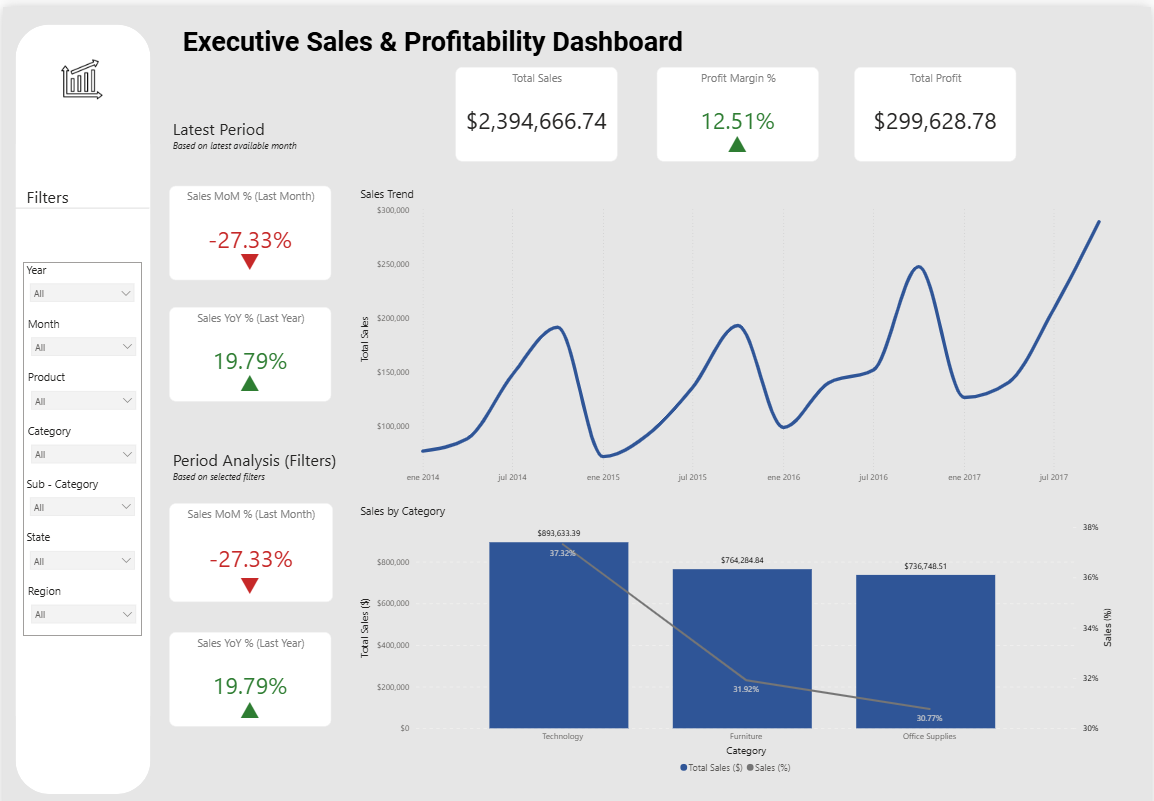

This screenshot's page, from the dashboard's own definition file:
{"tool":"powerbi","page":{"name":"Executive Overview","canvas":[1700,1200],"ordinal":0},"visuals":[{"type":"card","title":"Total Sales","fields":{"Values":["Medidas_DAX.Total Sales"]},"box":[670,88,240,140],"z":0},{"type":"textbox","box":[28.2,260,123.3,48.9],"z":0,"group":"g1"},{"type":"lineChart","title":"Sales Trend","fields":{"Y":["Medidas_DAX.Total Sales"],"Category":["dim_date.date.Variación.Jerarquía de fechas.Año","dim_date.date.Variación.Jerarquía de fechas.Trimestre"]},"box":[524,264,1126,450],"z":1000},{"type":"shape","box":[16,270,200,58.9],"z":1000,"group":"g1"},{"type":"lineStackedColumnComboChart","title":"Sales by Category","fields":{"Category":["dim_product.category"],"Y":["Medidas_DAX.Total Sales"],"Y2":["Medidas_DAX.%Sales"]},"box":[524,736,1126,410],"z":2000},{"type":"card","title":"Total Profit","fields":{"Values":["Medidas_DAX.Total Profit"]},"box":[1262,88,240,140],"z":3000},{"type":"textbox","box":[262,22,946,80],"z":4000},{"type":"card","title":"Profit Margin %","fields":{"Values":["Medidas_DAX.Profit Margin %"]},"box":[968,88,240,140],"z":4000,"group":"g3"},{"type":"shape","box":[18,26,200,1140],"z":5000},{"type":"group","id":"g1","title":"Group 1","box":[16,260,200,70],"z":6000},{"type":"slicer","title":"Category","fields":{"Values":["dim_product.category"]},"box":[30,615.3,175.6,80],"z":6000,"group":"g2"},{"type":"group","id":"g2","title":"Group 2","box":[28.9,377,176.7,555],"z":7000},{"type":"slicer","title":"Month","fields":{"Values":["dim_date.date.Variación.Jerarquía de fechas.Mes"]},"box":[30,456.4,175.6,80],"z":7000,"group":"g2"},{"type":"slicer","title":"State","fields":{"Values":["dim_region.state"]},"box":[28.9,773.1,175.6,80],"z":8000,"group":"g2"},{"type":"card","title":"Sales YoY % (Last Year)","fields":{"Values":["Medidas_DAX.Sales YoY % (KPI)"]},"box":[246,926,240,140],"z":8000},{"type":"card","title":"Sales MoM % (Last Month)","fields":{"Values":["Medidas_DAX.Sales MoM % (KPI)"]},"box":[246,736,242,146],"z":9000},{"type":"slicer","title":"Region","fields":{"Values":["dim_region.region"]},"box":[30,852,175.6,80],"z":9000,"group":"g2"},{"type":"card","title":"Sales YoY % (Last Year)","fields":{"Values":["Medidas_DAX.YoY % KPI Global"]},"box":[246,444,240,140],"z":10000},{"type":"slicer","title":"Sub - Category","fields":{"Values":["dim_product.sub_category"]},"box":[28.9,694.2,175.6,80],"z":10000,"group":"g2"},{"type":"card","title":"Sales MoM % (Last Month)","fields":{"Values":["Medidas_DAX.MoM % Global"]},"box":[246,264,240,140],"z":11000},{"type":"slicer","title":"Product","fields":{"Values":["dim_product.product_name"]},"box":[30,535.3,175.6,80],"z":11000,"group":"g2"},{"type":"textbox","box":[246,160,222,70],"z":12000},{"type":"slicer","title":"Year","fields":{"Values":["dim_date.year"]},"box":[29,377,175,80],"z":12000,"group":"g2"},{"type":"textbox","box":[246,650,278,64],"z":13000},{"type":"card","title":"Sales MoM % (Last Month)","fields":{"Values":["Formats.Sales MoM Indicator"]},"box":[326,826,80,60],"z":14000},{"type":"card","title":"Sales MoM % (Last Month)","fields":{"Values":["Formats.Profit_Card Indicator"]},"box":[1048,172,80,58],"z":14005,"group":"g3"},{"type":"card","title":"Sales MoM % (Last Month)","fields":{"Values":["Formats.Sales YoY Indicator"]},"box":[326,1012,80,58],"z":15000},{"type":"card","title":"Sales MoM % (Last Month)","fields":{"Values":["Formats.Sales MoMGlobal Indicator"]},"box":[326,526,80,60],"z":16000},{"type":"card","title":"Sales MoM % (Last Month)","fields":{"Values":["Formats.Sales YoYGlobal Indicator"]},"box":[326,348,80,58],"z":17000},{"type":"group","id":"g3","title":"Group 3","box":[968,88,240,142],"z":18000},{"type":"image","box":[64,62,104,92],"z":19000}]}

Visuals, with their boxes in screenshot pixels (x1, y1, x2, y2), scaled from the page's 1700x1200 canvas onto the 1154x801 screenshot:
"Total Sales" card: 455 59 618 152
textbox: 19 174 103 206
"Sales Trend" lineChart: 356 176 1120 477
shape: 11 180 147 220
"Sales by Category" lineStackedColumnComboChart: 356 491 1120 765
"Total Profit" card: 857 59 1020 152
textbox: 178 15 820 68
"Profit Margin %" card: 657 59 820 152
shape: 12 17 148 778
"Group 1" group: 11 174 147 220
"Category" slicer: 20 411 140 464
"Group 2" group: 20 252 140 622
"Month" slicer: 20 305 140 358
"State" slicer: 20 516 139 569
"Sales YoY % (Last Year)" card: 167 618 330 712
"Sales MoM % (Last Month)" card: 167 491 331 589
"Region" slicer: 20 569 140 622
"Sales YoY % (Last Year)" card: 167 296 330 390
"Sub - Category" slicer: 20 463 139 517
"Sales MoM % (Last Month)" card: 167 176 330 270
"Product" slicer: 20 357 140 411
textbox: 167 107 318 154
"Year" slicer: 20 252 138 305
textbox: 167 434 356 477
"Sales MoM % (Last Month)" card: 221 551 276 591
"Sales MoM % (Last Month)" card: 711 115 766 154
"Sales MoM % (Last Month)" card: 221 676 276 714
"Sales MoM % (Last Month)" card: 221 351 276 391
"Sales MoM % (Last Month)" card: 221 232 276 271
"Group 3" group: 657 59 820 154
image: 43 41 114 103
